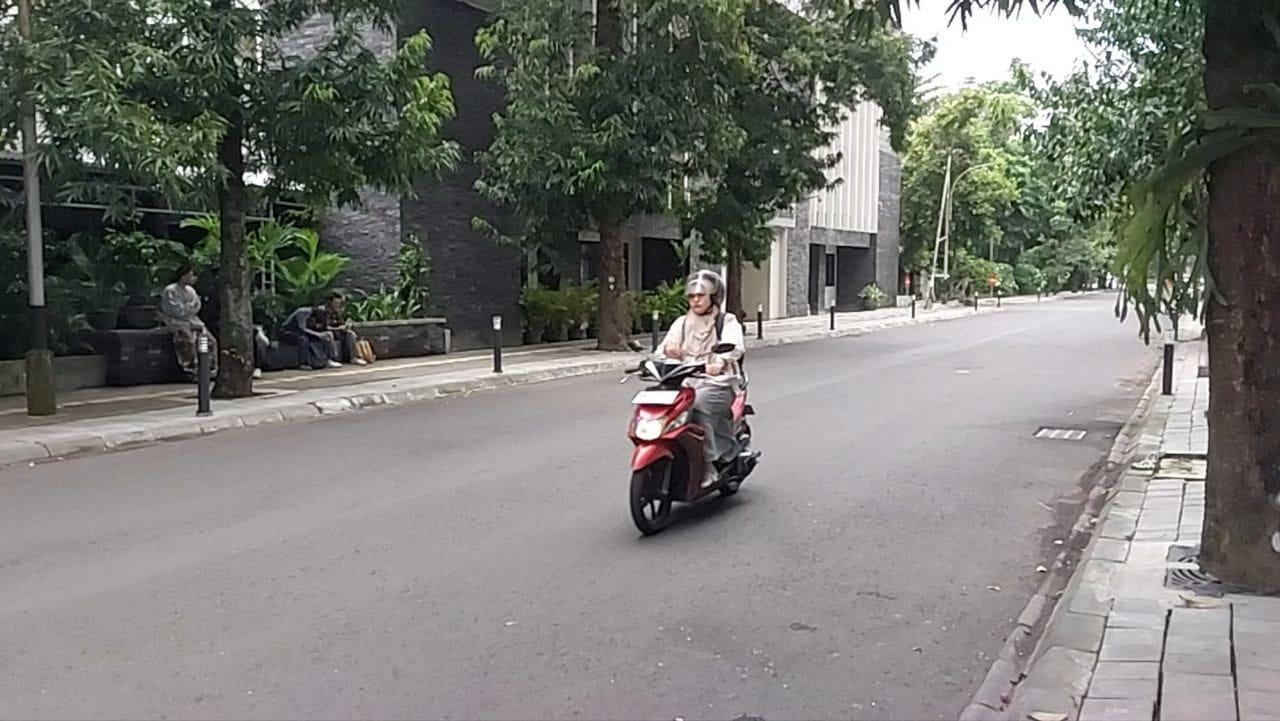helm: (684, 269, 727, 316)
riding: (623, 268, 763, 536)
